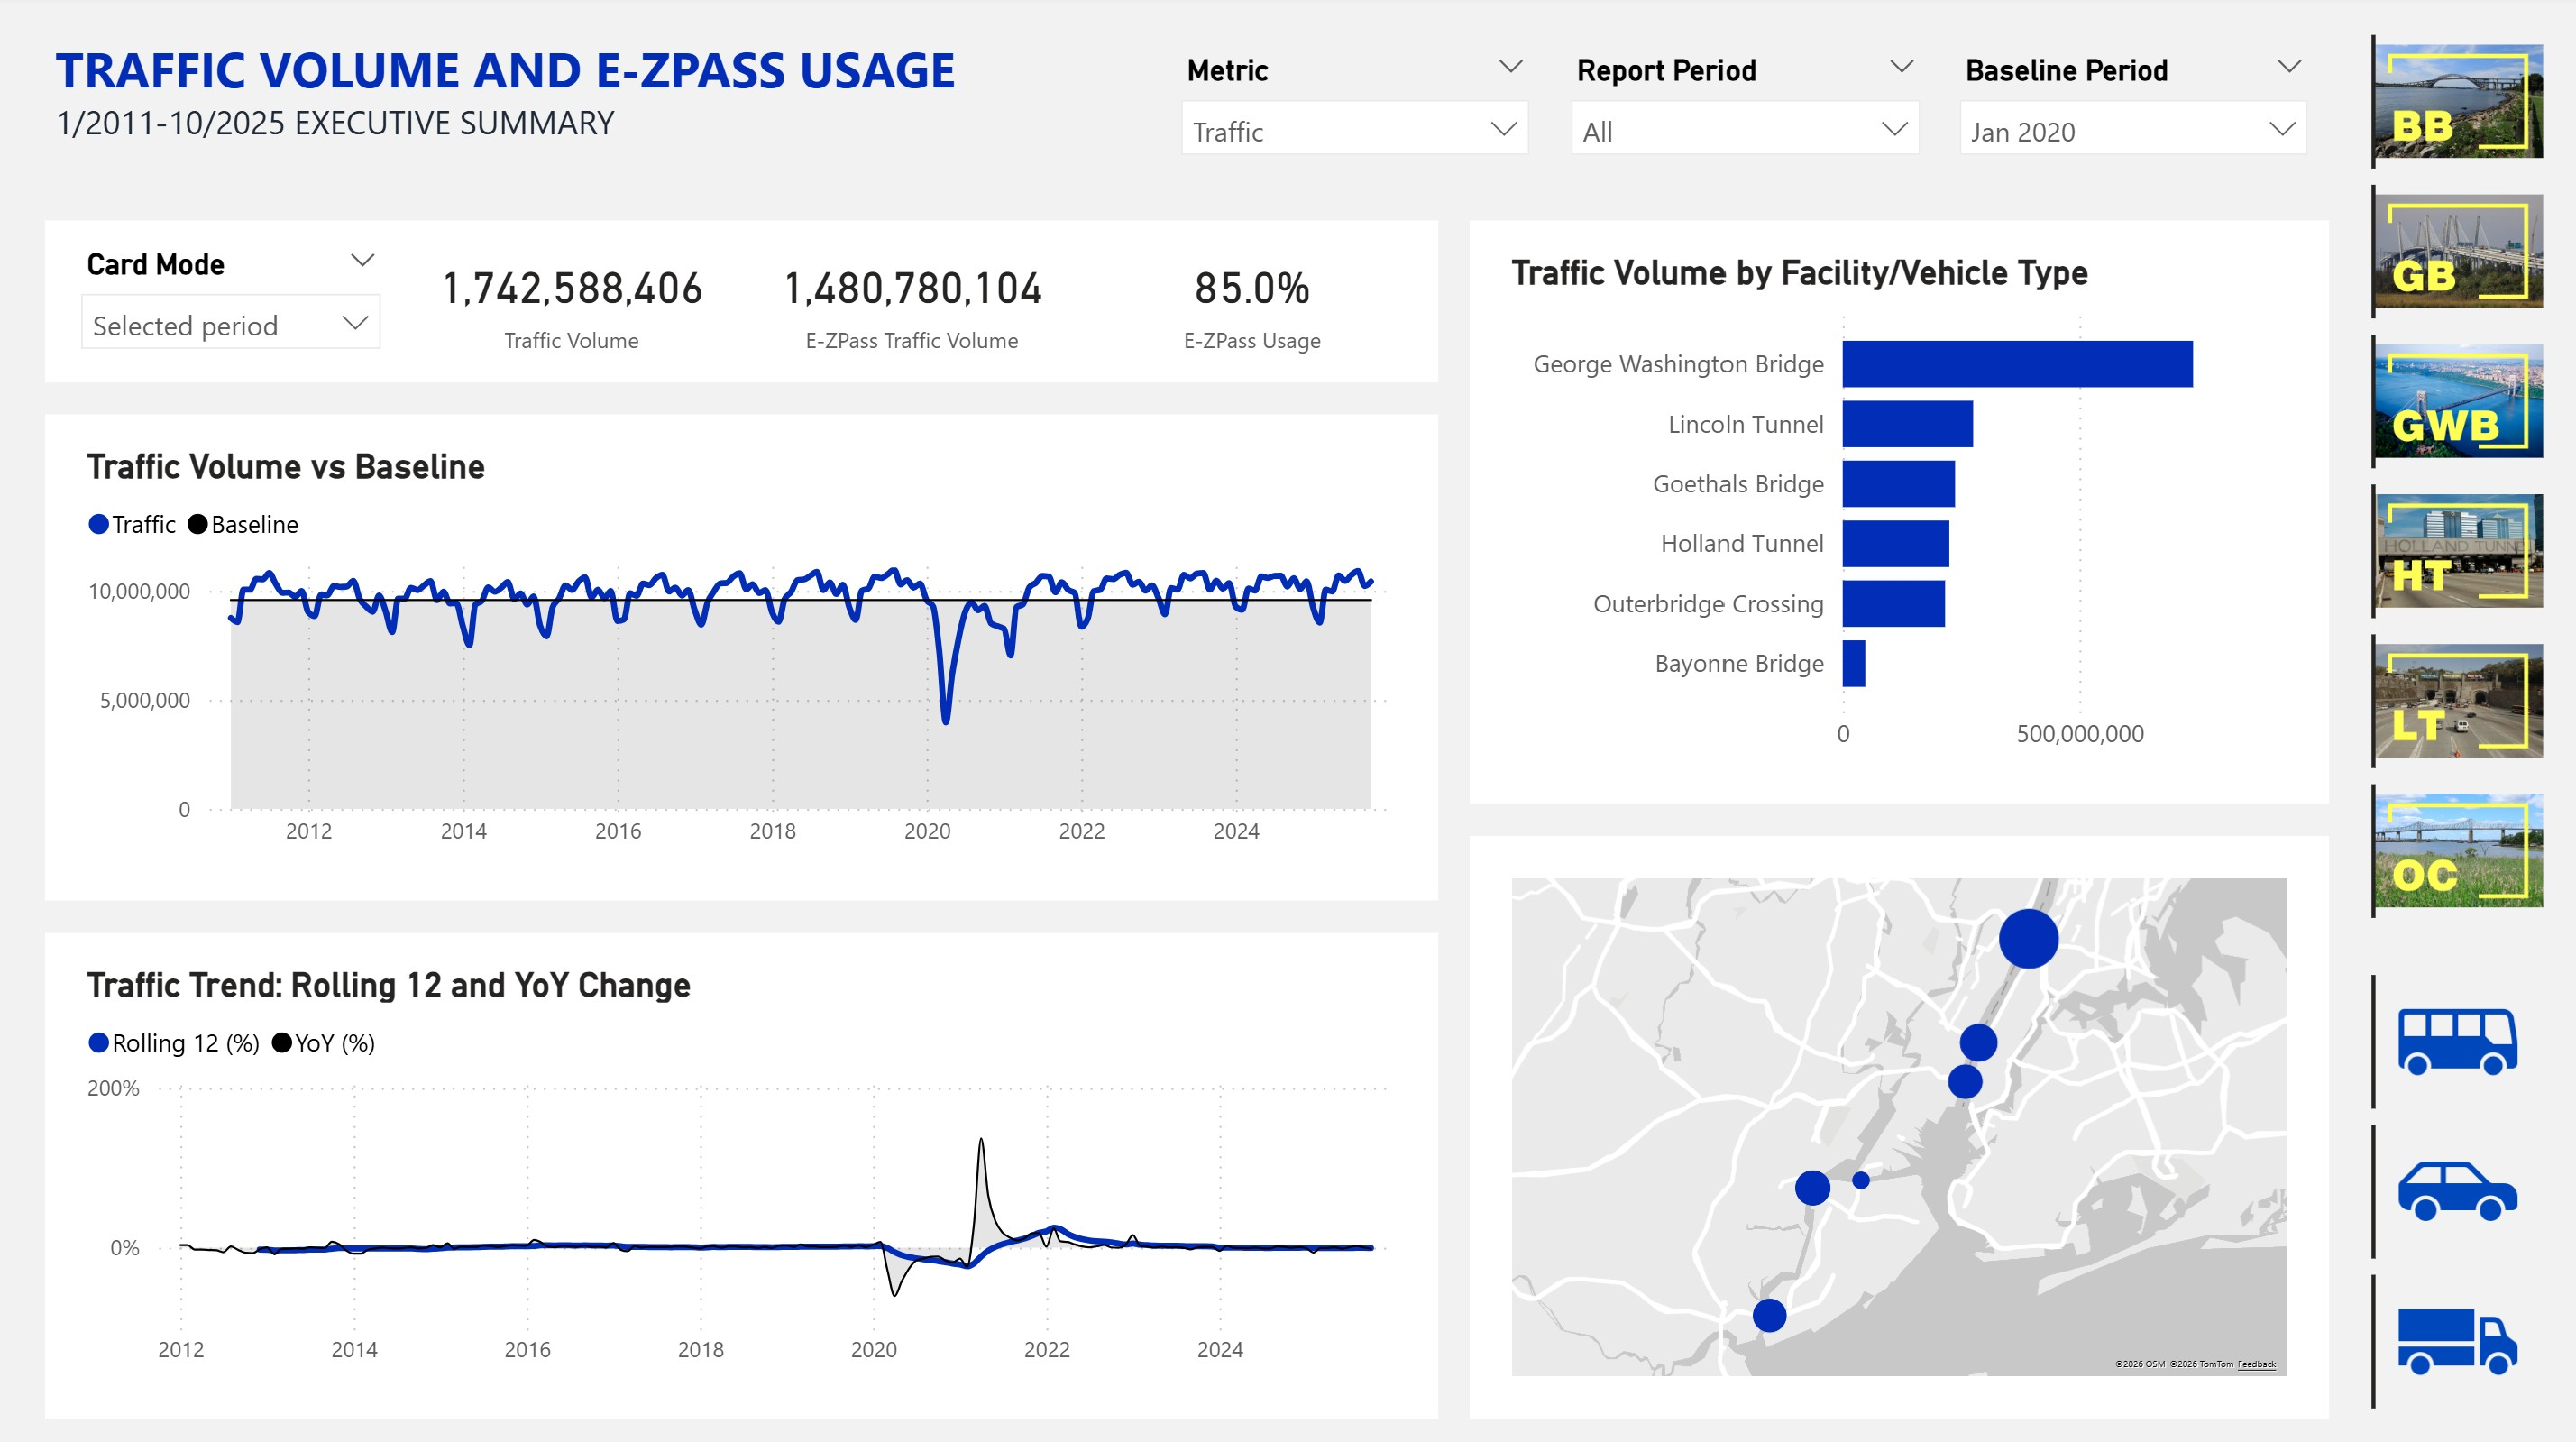

Layout of this report page (visuals, bound fields, positions):
{"tool":"powerbi","page":{"name":"Exec. Overview","canvas":[1280,720],"ordinal":0},"visuals":[{"type":"shape","box":[24,112,688,80],"z":0},{"type":"shape","box":[24,208,688,240],"z":1000},{"type":"shape","box":[24,464,688,240],"z":2000},{"type":"shape","box":[728,112,424,288],"z":3000},{"type":"shape","box":[728,416,424,288],"z":4000},{"type":"textbox","box":[24,16,480,80],"z":5000},{"type":"advancedSlicerVisual","fields":{"Values":["ref Vehicle Types.Image URL"]},"box":[1168,16,96,448],"z":6000},{"type":"advancedSlicerVisual","fields":{"Values":["ref Traffic Data.Image URL"]},"box":[1168,480,96,224],"z":7000},{"type":"slicer","fields":{"Values":["Calendar.Year","Calendar.Quarter","Calendar.Month"]},"box":[768,24,192,64],"z":8000},{"type":"slicer","fields":{"Values":["Traffic/E-ZPass Usage.Traffic/E-ZPass Usage"]},"box":[576,24,192,64],"z":9000},{"type":"slicer","fields":{"Values":["Calendar Baseline.Month"]},"box":[960,24,192,64],"z":10000},{"type":"slicer","fields":{"Values":["_ref Card Mode.Mode"]},"box":[32,120,168,64],"z":11000},{"type":"card","fields":{"Values":["_ref Card Mode._m Card Total Traffic"]},"box":[200,120,168,64],"z":12000},{"type":"card","fields":{"Values":["_ref Card Mode._m Card Total Traffic using EZPass"]},"box":[368,120,168,64],"z":13000},{"type":"card","fields":{"Values":["_ref Card Mode._m Card EZPass Usage"]},"box":[536,120,168,64],"z":14000},{"type":"lineChart","fields":{"Y":["Traffic._m Total Traffic","_prm Traffic/E-ZPass Usage._m Selected Baseline"],"Category":["Calendar.Date.Variation.Date Hierarchy.Year","Calendar.Date.Variation.Date Hierarchy.Quarter","Calendar.Date.Variation.Date Hierarchy.Month"]},"box":[40,224,656,208],"z":15000},{"type":"lineChart","fields":{"Category":["Calendar.Date.Variation.Date Hierarchy.Year","Calendar.Date.Variation.Date Hierarchy.Quarter","Calendar.Date.Variation.Date Hierarchy.Month"],"Y":["_prm Traffic/E-ZPass Usage._m Selected Rolling 12 (%)","_prm Traffic/E-ZPass Usage._m Selected YoY (%)"]},"box":[40,480,656,208],"z":16000},{"type":"clusteredBarChart","fields":{"Y":["Traffic._m Total Traffic"],"Category":["Traffic.Facility","Traffic.Vehicle Type"]},"box":[744,128,392,256],"z":17000},{"type":"azureMap","fields":{"Size":["Traffic._m Total Traffic"],"Y":["ref Vehicle Types.Latitude"],"X":["ref Vehicle Types.Longitude"]},"box":[744,432,392,256],"z":18000}]}

Visuals, with their boxes in screenshot pixels (x1, y1, x2, y2), scaled from the page's 1280x720 canvas onto the 2576x1442 screenshot:
shape: BBox(49, 225, 1433, 384)
shape: BBox(49, 417, 1433, 897)
shape: BBox(49, 929, 1433, 1410)
shape: BBox(1465, 225, 2318, 801)
shape: BBox(1465, 833, 2318, 1410)
textbox: BBox(49, 32, 1014, 192)
advancedSlicerVisual - ref Vehicle Types.Image URL: BBox(2351, 32, 2544, 929)
advancedSlicerVisual - ref Traffic Data.Image URL: BBox(2351, 961, 2544, 1410)
slicer - Calendar.Year x Calendar.Quarter: BBox(1545, 48, 1932, 176)
slicer - Traffic/E-ZPass Usage.Traffic/E-ZPass Usage: BBox(1160, 48, 1545, 176)
slicer - Calendar Baseline.Month: BBox(1932, 48, 2318, 176)
slicer - _ref Card Mode.Mode: BBox(64, 240, 402, 369)
card - _ref Card Mode._m Card Total Traffic: BBox(402, 240, 740, 369)
card - _ref Card Mode._m Card Total Traffic using EZPass: BBox(740, 240, 1078, 369)
card - _ref Card Mode._m Card EZPass Usage: BBox(1078, 240, 1416, 369)
lineChart - Traffic._m Total Traffic x _prm Traffic/E-ZPass Usage._m Selected Baseline: BBox(80, 448, 1400, 865)
lineChart - Calendar.Date.Variation.Date Hierarchy.Year x Calendar.Date.Variation.Date Hierarchy.Quarter: BBox(80, 961, 1400, 1378)
clusteredBarChart - Traffic._m Total Traffic x Traffic.Facility: BBox(1498, 256, 2287, 769)
azureMap - Traffic._m Total Traffic x ref Vehicle Types.Latitude: BBox(1498, 865, 2287, 1378)
